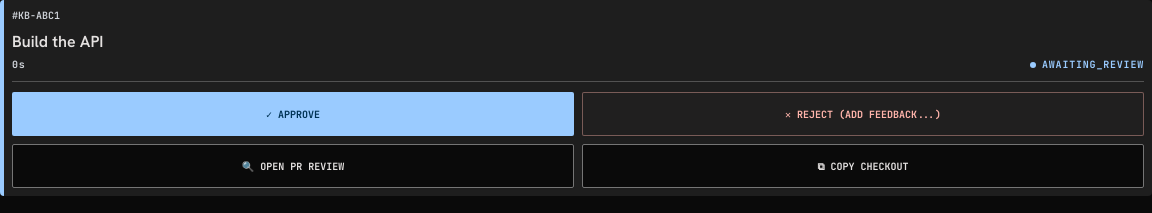
Test: Copy Checkout sits beside Open PR Review and copies the derived branch command
The image size is (1152, 213).
Click the button with aria-label "Copy checkout command for task #KB-ABC1" at (863, 166), box [582, 144, 1144, 188]
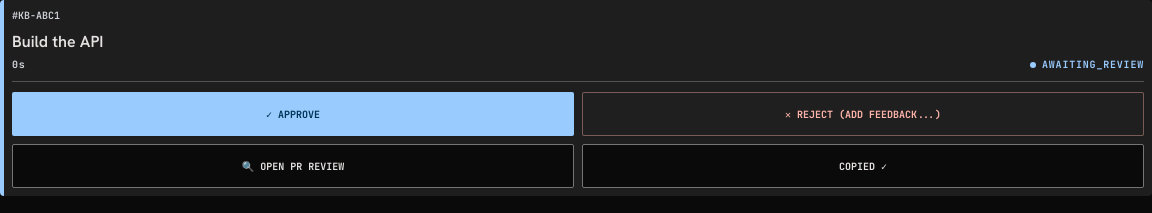
Expected: the button with aria-label "Copy checkout command for task #KB-ABC1" reads "Copied ✓", [582, 144, 1144, 188]
